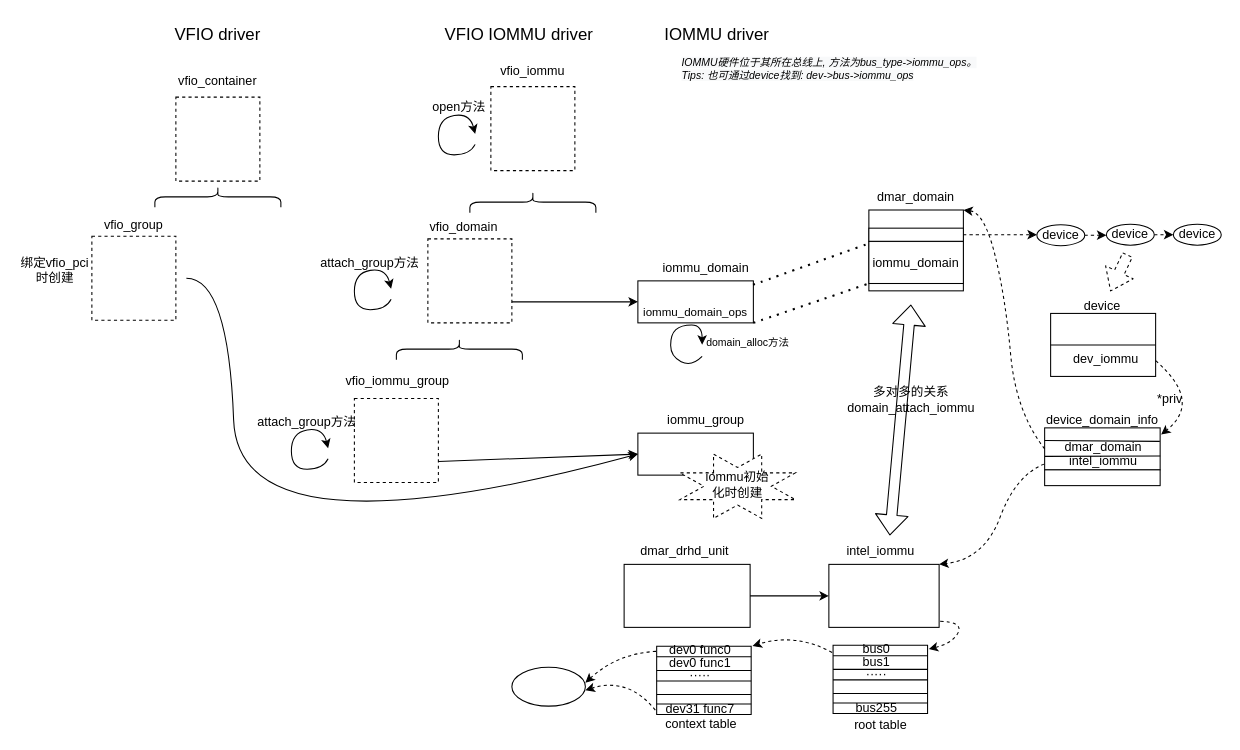
The diagram is 1240 pixels wide and 750 high, and some of its shapes have lost their labels. The shapes that lost their labels are listed below. From the top down, each one's centre as x and y in pixels, then its label:
At pixel 915 234: "devices".
At pixel 1102 477: "pasid_table".
At pixel 883 595: "root_entry".
At pixel 548 686: "domian0".
